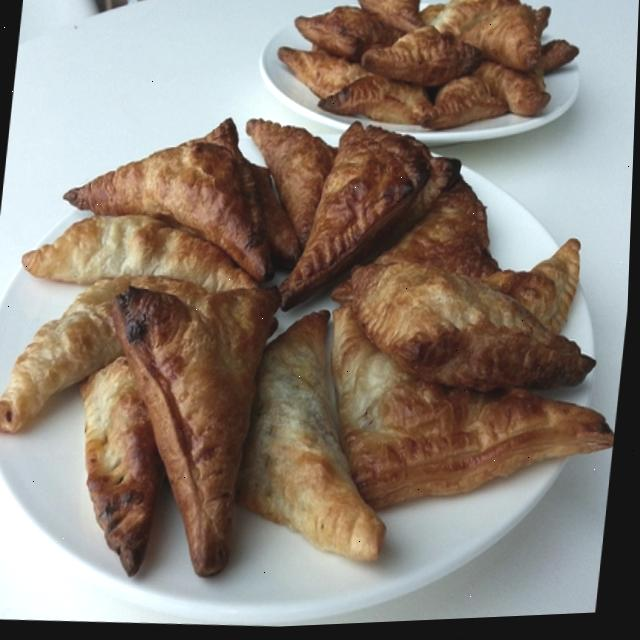炸货点心: (0, 60, 631, 618)
